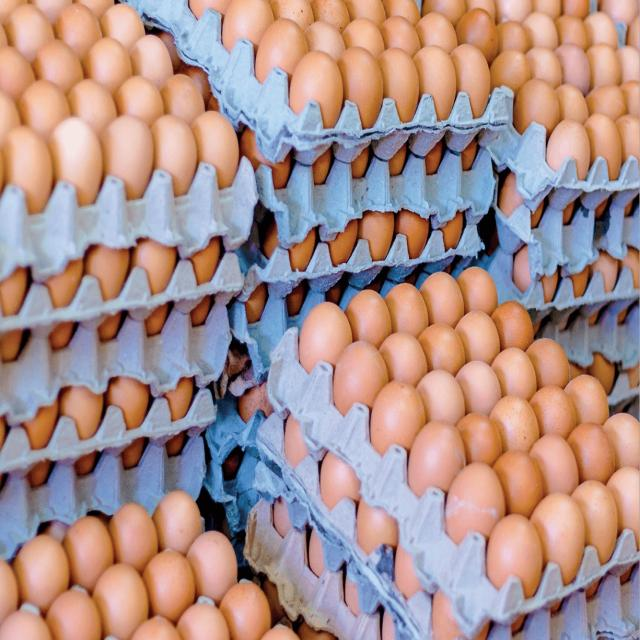huevos: (299, 303, 346, 371)
